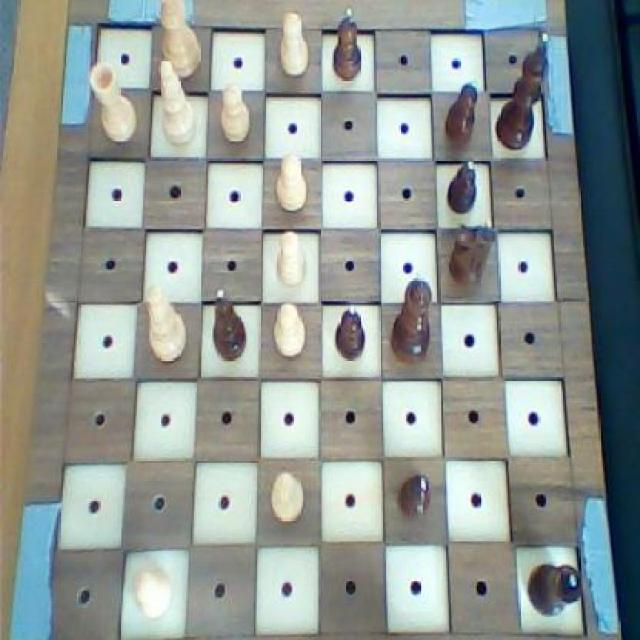bishop: (209, 286, 248, 369)
black-king: (446, 217, 498, 291)
black-knight: (440, 77, 482, 148), (328, 3, 364, 83), (332, 303, 368, 364), (445, 158, 480, 218), (397, 468, 432, 526)
black-pawn: (494, 31, 554, 156), (389, 272, 434, 368)
black-queen: (526, 555, 582, 621)
black-rook: (156, 57, 200, 152), (142, 277, 189, 365)
white-bishop: (154, 0, 205, 83)
white-knight: (276, 9, 314, 82), (268, 464, 308, 528), (274, 224, 311, 292), (132, 566, 176, 621), (271, 299, 308, 363), (276, 149, 308, 220)
white-queen: (89, 59, 143, 148)
